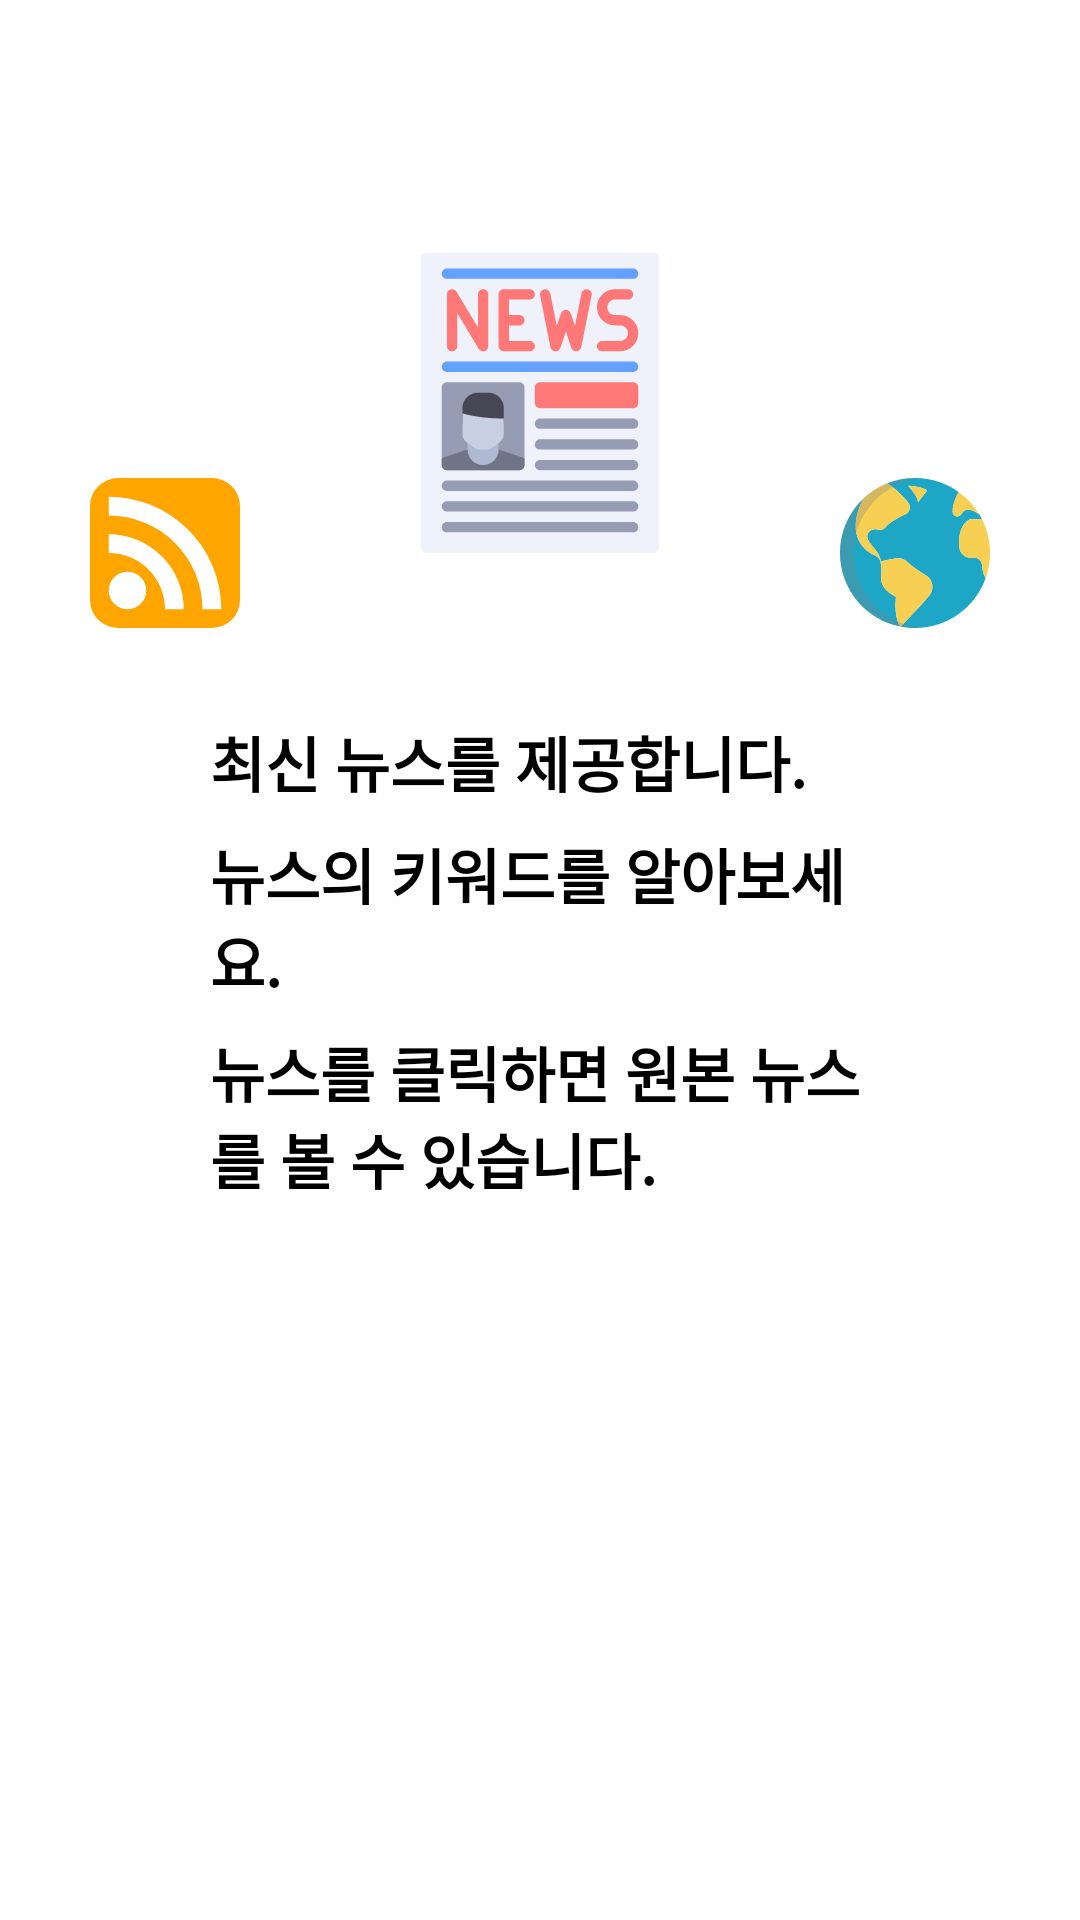

Locate icon controls on the screen. Image size 1080×1920, boxes as (x1, y1, x2, y2).
feed: (90, 478, 240, 628)
newspaper: (441, 268, 639, 533)
planet: (840, 478, 990, 628)
